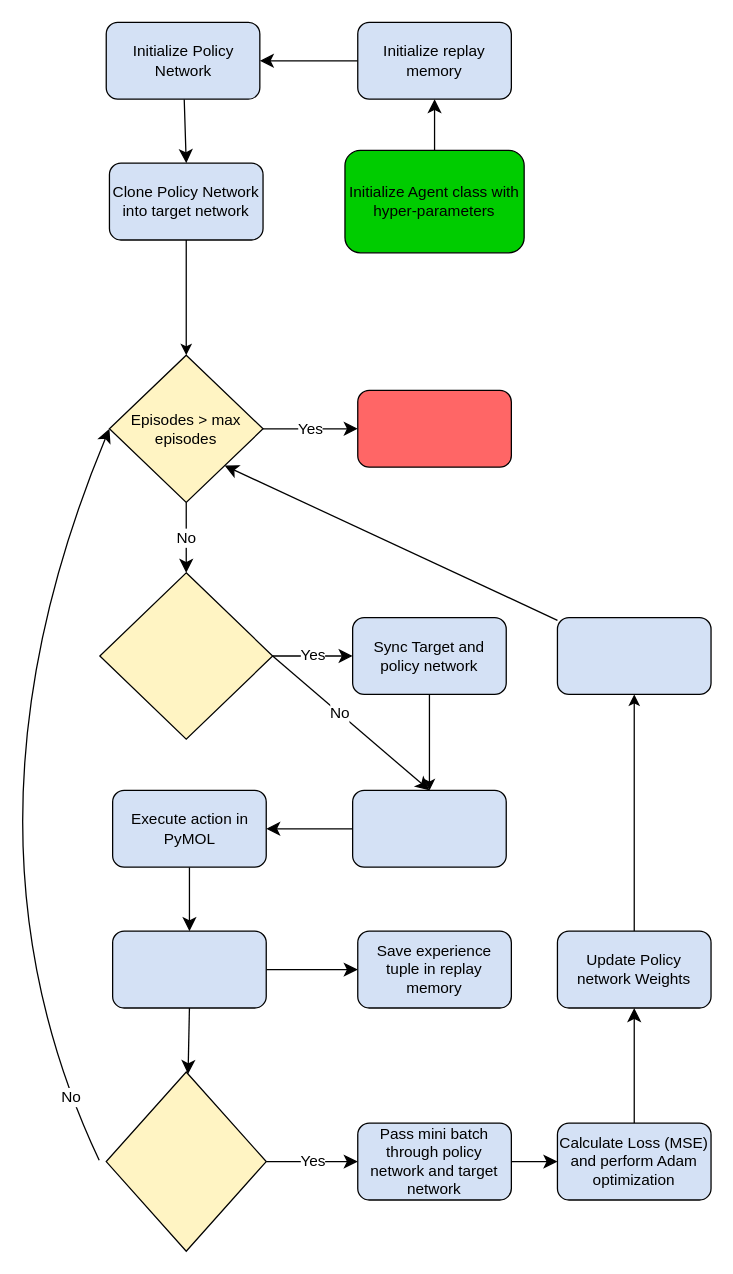
Image size: 733x1274. Some labels were removed from this diagram. Each missing label, with the centre of its shape:
"End simulation" belongs at point 433,428.
"if episode % network sync rate == 0" belongs at point 186,655.
"if replay memory > replay mini batch size" belongs at point 185,1161.
"Next Episode" belongs at point 633,655.
"Observe State, action, Reward and Next state" belongs at point 188,969.
"Select action using epsilon greedy method" belongs at point 428,828.
